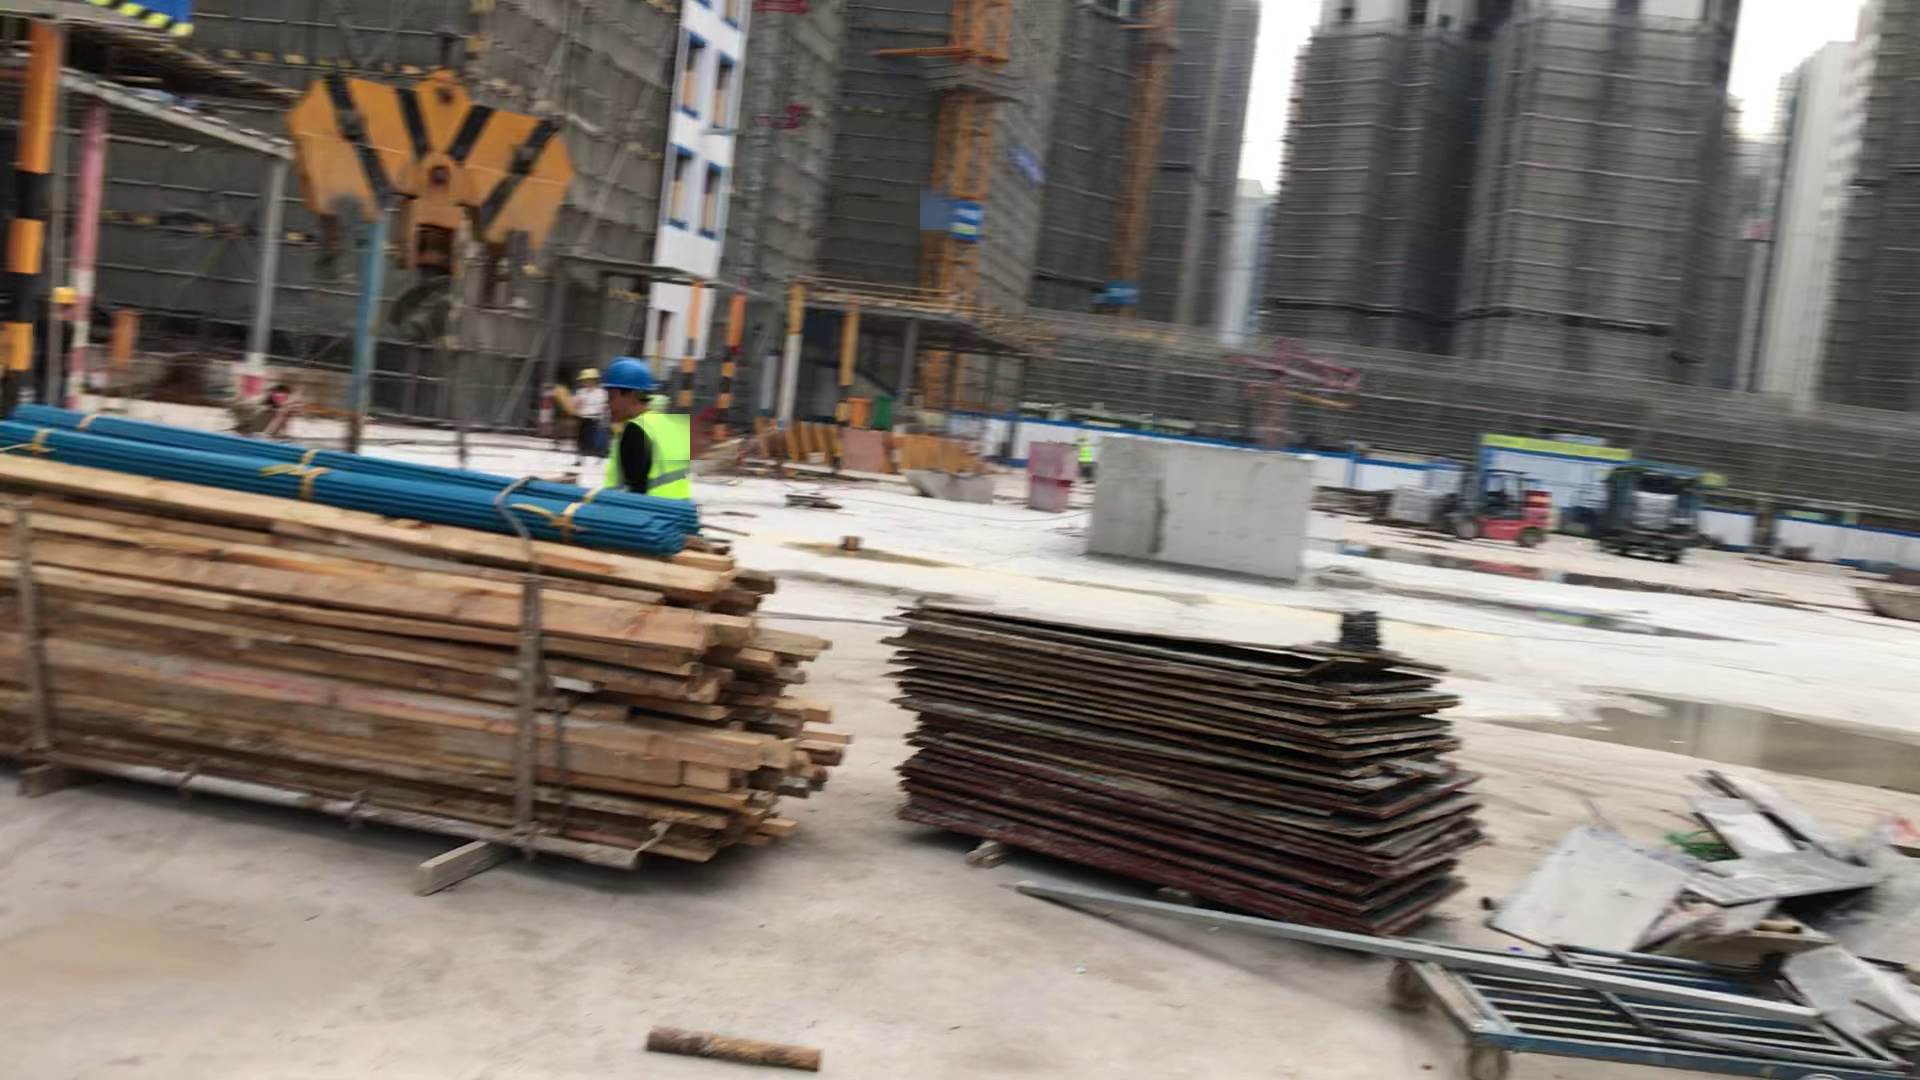board: (876, 564, 1483, 943)
helmet: (611, 361, 666, 404), (573, 354, 602, 387)
hook: (289, 49, 589, 286)
hopper: (897, 467, 1005, 506)
person: (600, 356, 702, 531), (556, 356, 610, 467)
vest: (618, 419, 692, 504)
wood: (28, 457, 747, 871)
